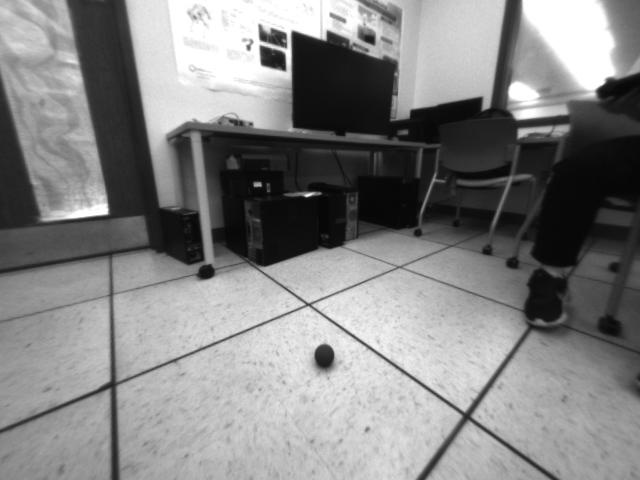dogtoy: (303, 337, 340, 372)
